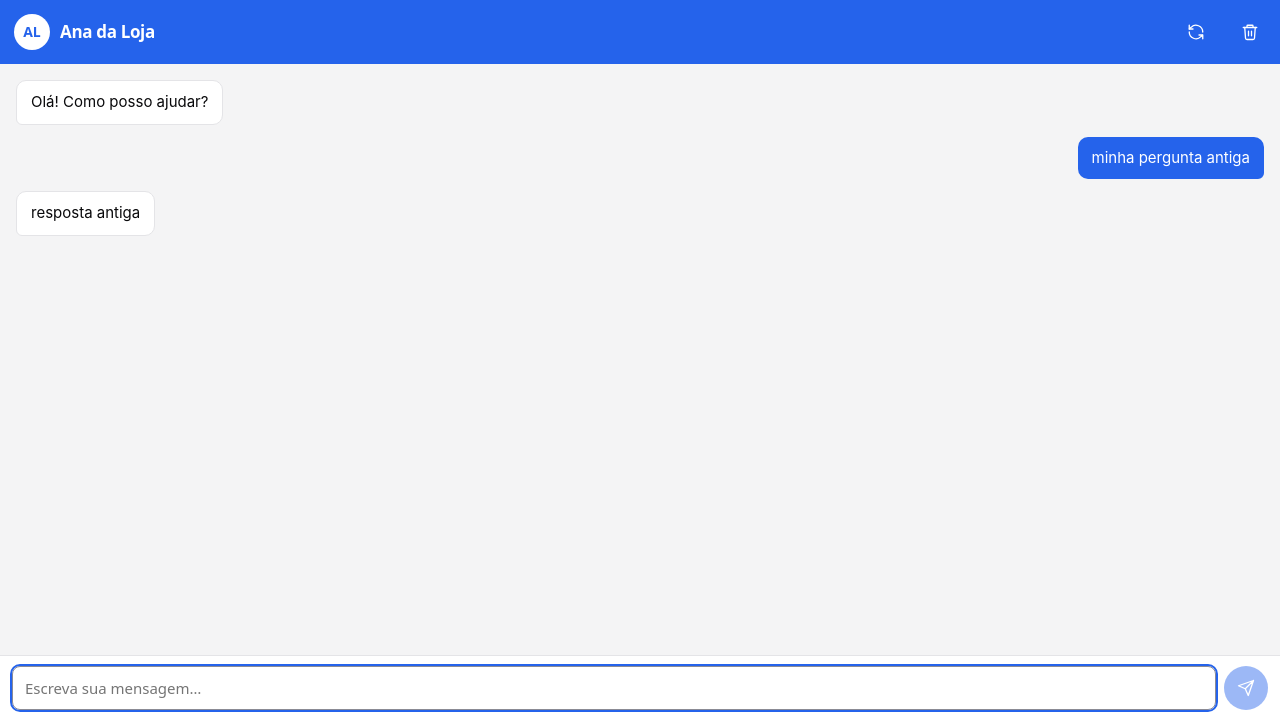
Test: Apagar minha conversa (funcional) › erro da API mostra a mensagem na confirmação e não apaga o estado local
Step 1. Click the button named "Apagar minha conversa" → {"x": 1250, "y": 32}, box [1228,10,1272,54]
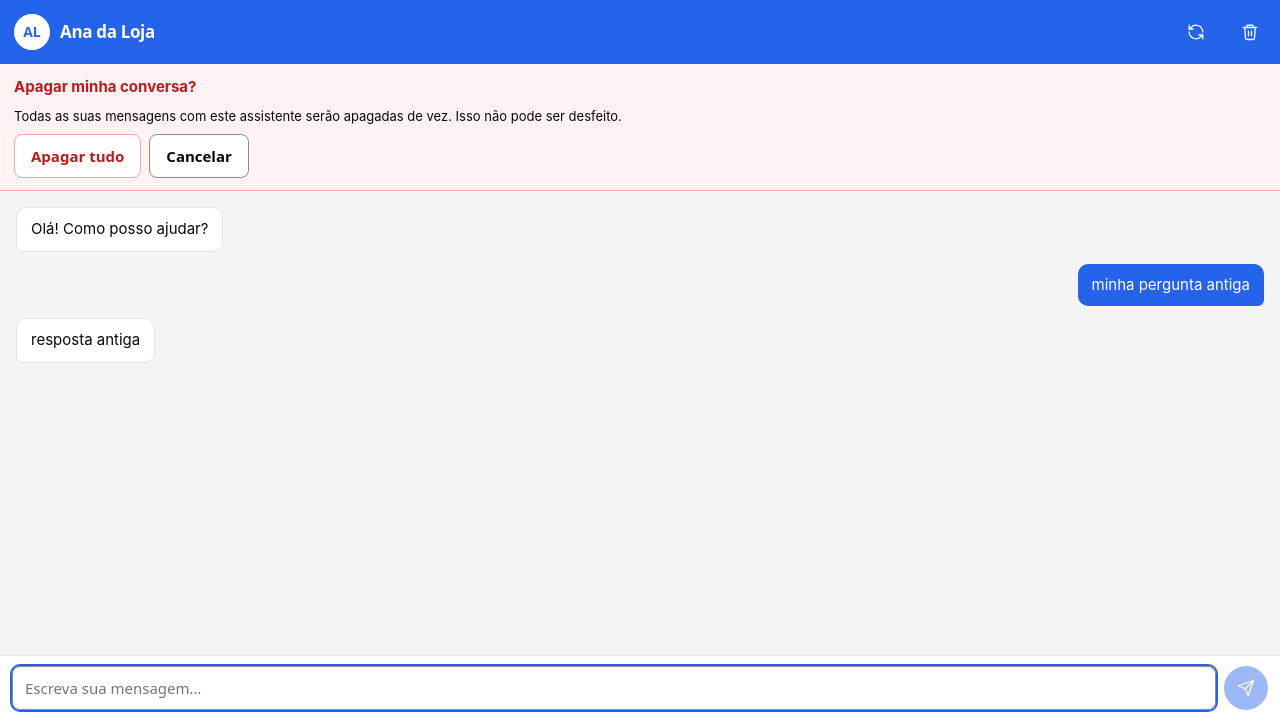
Step 2. Click the button "Apagar tudo" → {"x": 78, "y": 156}, box [14,134,141,178]
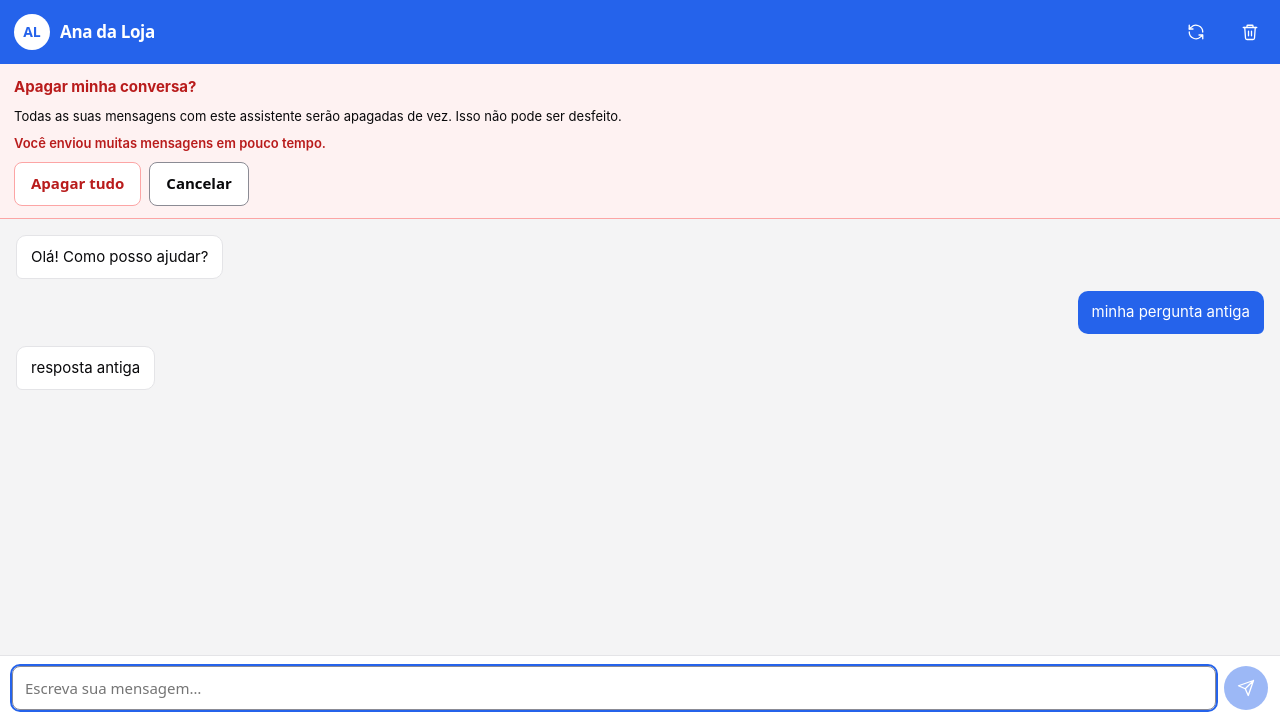
Expected: the text "minha pergunta antiga" is shown, [1092,301,1250,324]
Result: the message "Você enviou muitas mensagens em pouco tempo." is shown at [14,135,326,151]
